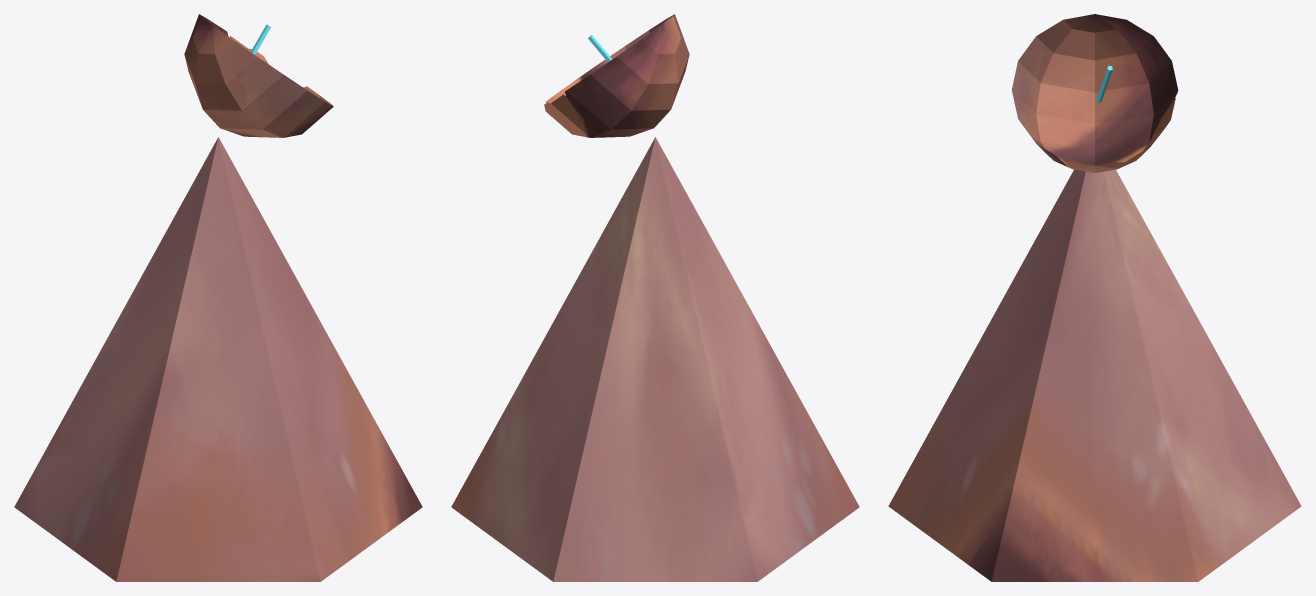
The model's file is teepee.obj.
3 views of the same model, side by side, from view 1: azimuth 30°, elevation 25°; view 2: azimuth 150°, elevation 25°; view 3: azimuth 270°, elevation 25° (orthographic).
Parts seen in each view (by area): view 1: Cone; view 2: Cone; view 3: Cone.
Boxes of the visible parts, box(x1,y1,x2,y2) form: Cone: box(14, 14, 422, 581); Cone: box(451, 14, 859, 581); Cone: box(888, 14, 1301, 581).
Bounding box in the file's own units: 4.3 × 6.48 × 4.96.
